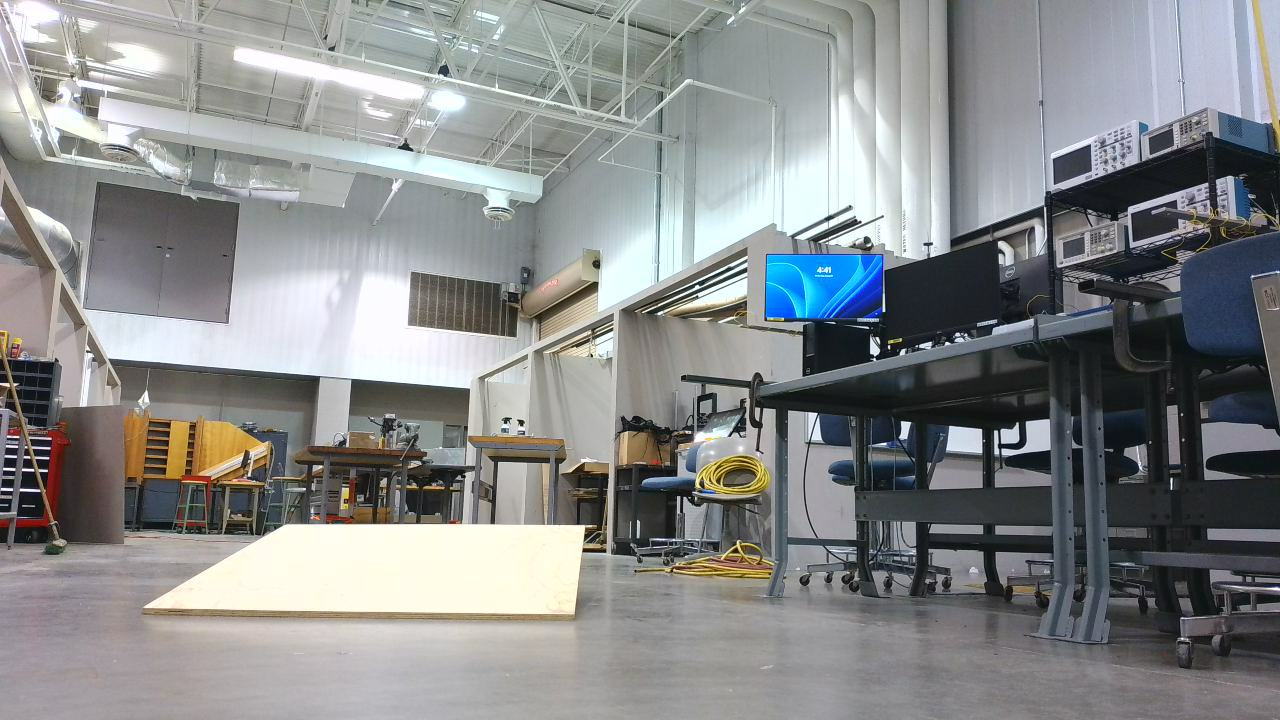ramp: (144, 524, 596, 631)
